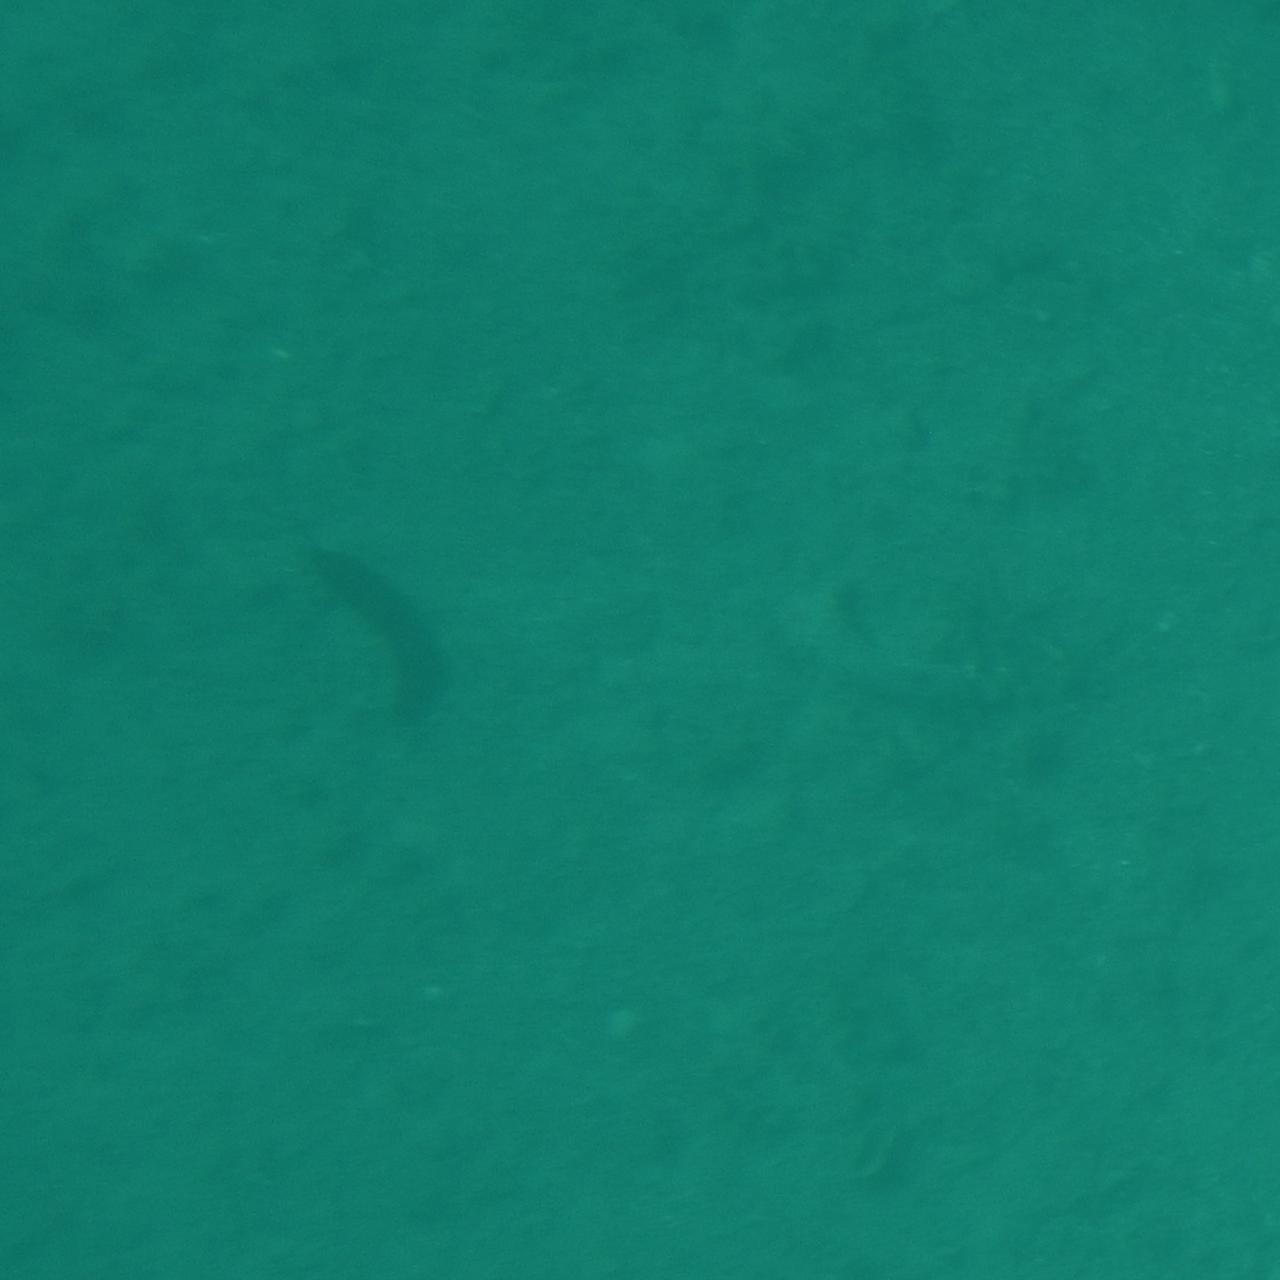Holothuria tubulosa: (297, 532, 448, 748)
